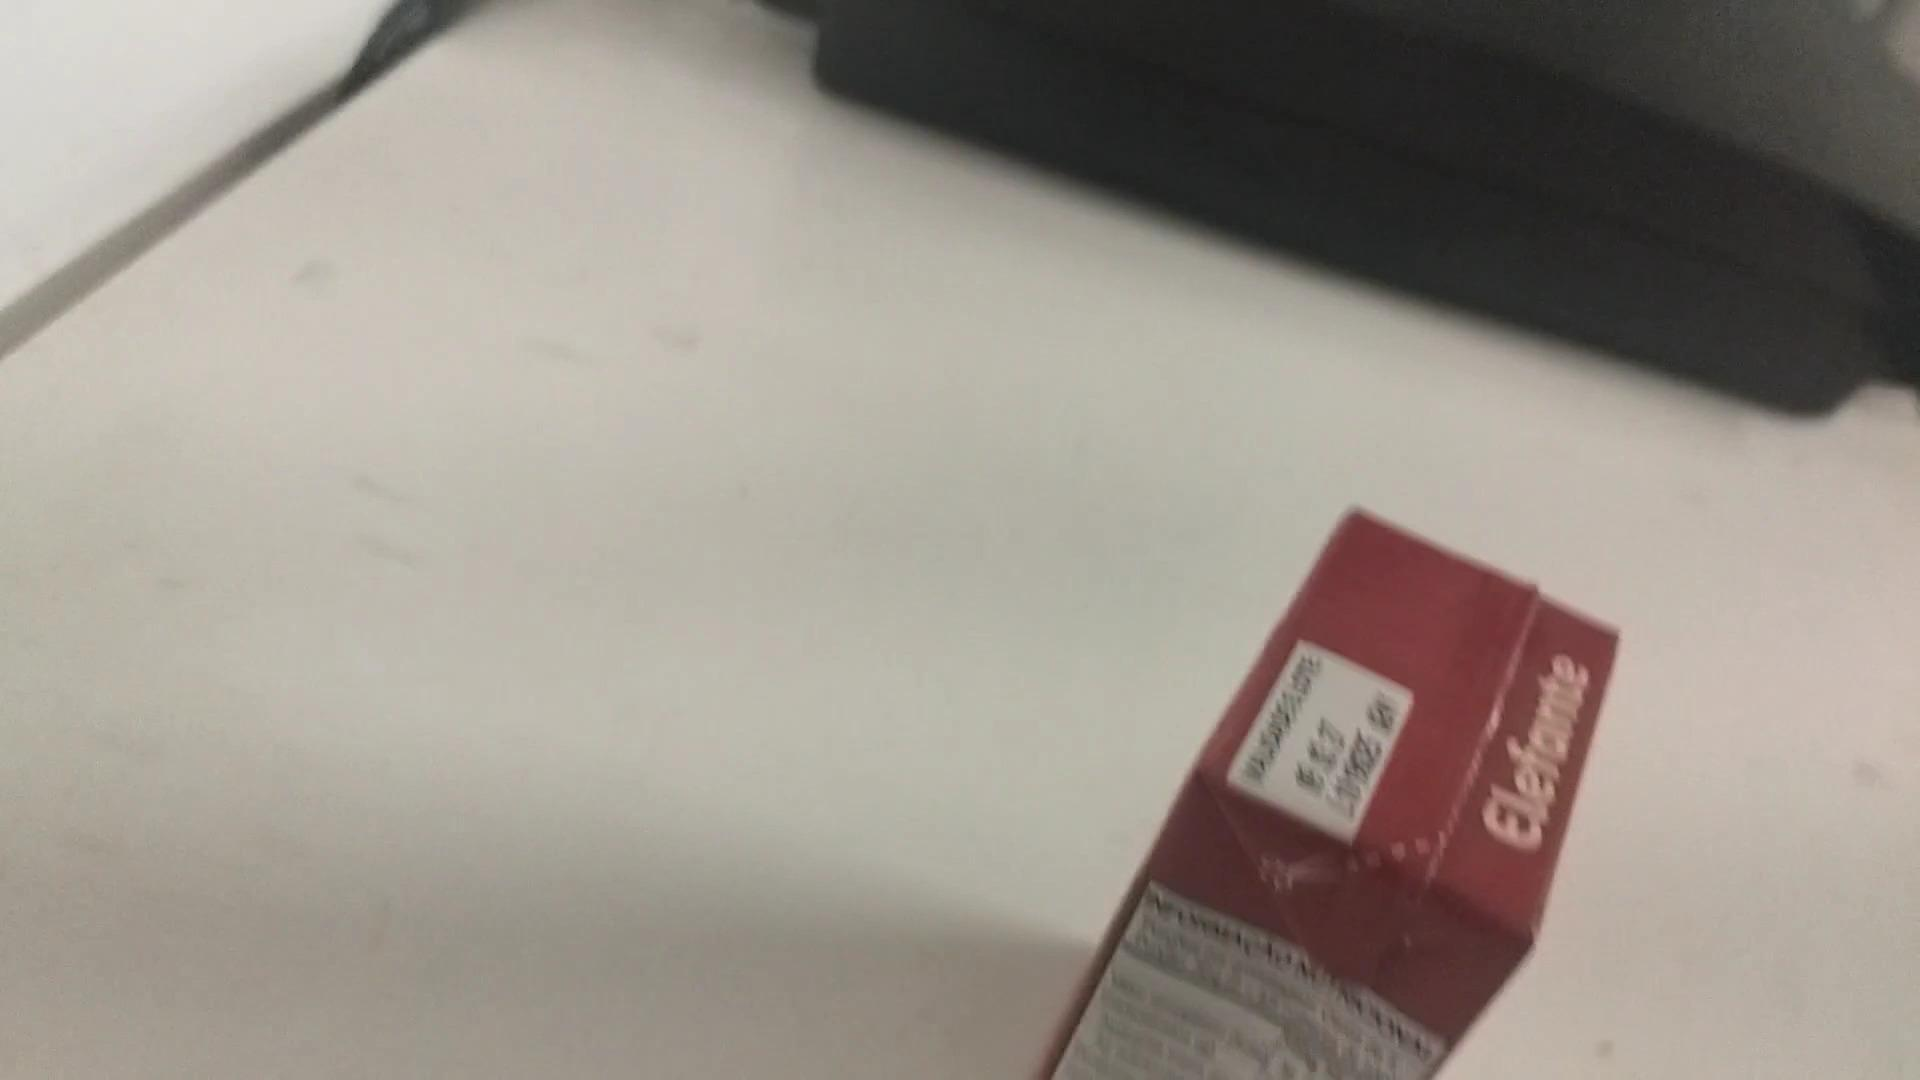tomate: (1017, 476, 1652, 1080)
